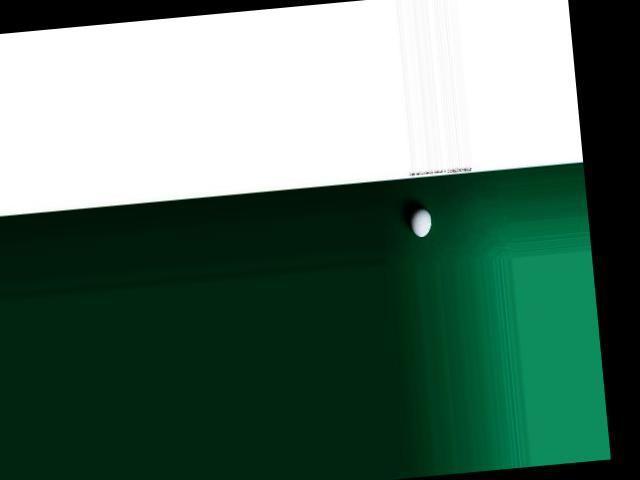egg: (410, 206, 434, 237)
